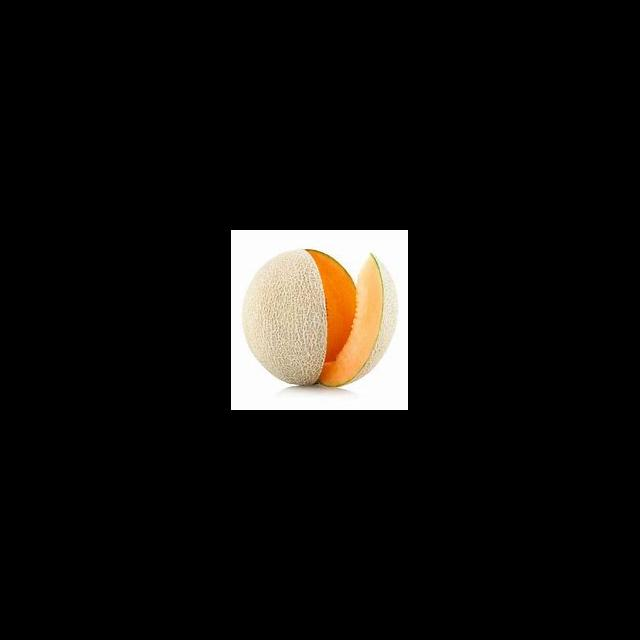Hami Melon: (243, 251, 357, 386), (325, 252, 399, 388)
